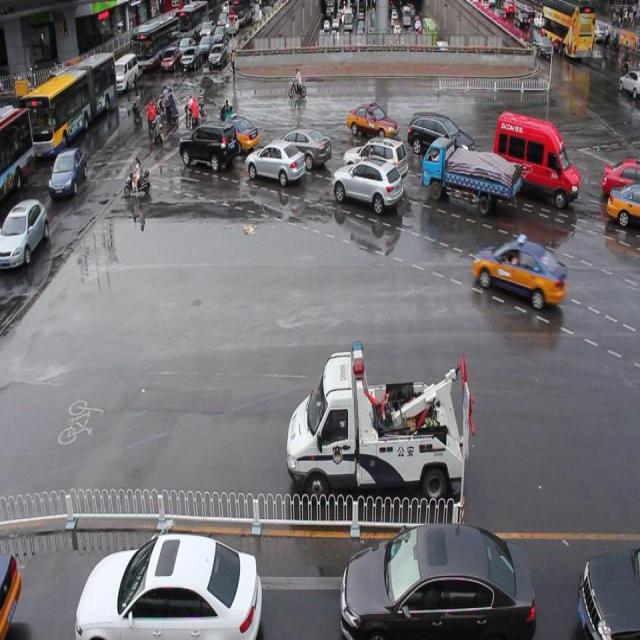bus: (288, 335, 476, 505), (423, 134, 520, 211)
car: (343, 524, 534, 640), (79, 530, 261, 640), (474, 233, 564, 307), (584, 543, 640, 640), (333, 153, 404, 211), (408, 108, 474, 160), (179, 117, 240, 167), (243, 140, 306, 182), (344, 137, 407, 178), (272, 124, 330, 168), (0, 546, 22, 640), (348, 100, 398, 136), (213, 112, 259, 150), (603, 154, 640, 197), (608, 180, 640, 227)
truck: (492, 107, 580, 202)
